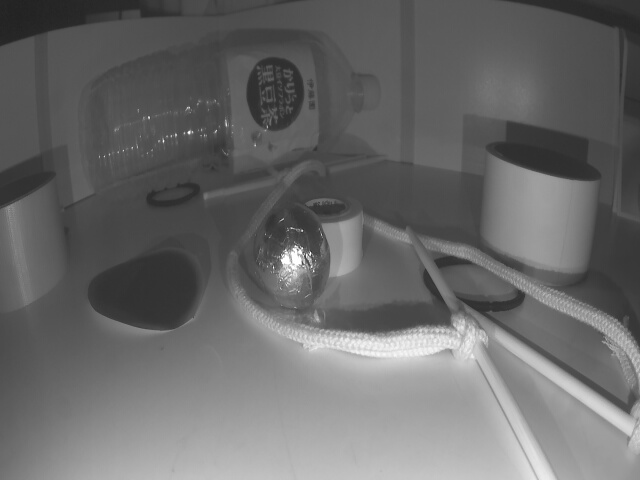Live: (259, 204, 329, 305)
